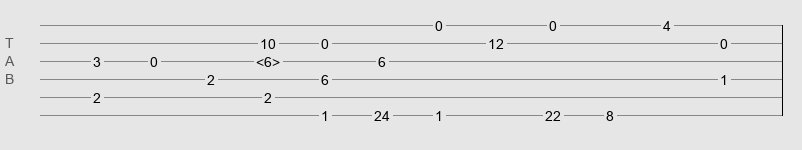0: (150, 54, 158, 64), (321, 36, 329, 46), (435, 18, 443, 28), (549, 18, 557, 28), (720, 36, 728, 46)
1: (321, 108, 329, 118), (435, 108, 443, 118), (720, 72, 728, 82)
10: (260, 36, 276, 46)
12: (488, 36, 504, 46)
2: (93, 90, 101, 100), (207, 72, 215, 82), (264, 90, 272, 100)
22: (545, 108, 561, 118)
24: (374, 108, 390, 118)
3: (93, 54, 101, 64)
4: (663, 18, 671, 28)
6: (321, 72, 329, 82), (378, 54, 386, 64)
8: (606, 108, 614, 118)
harmonic: (256, 54, 280, 64)
